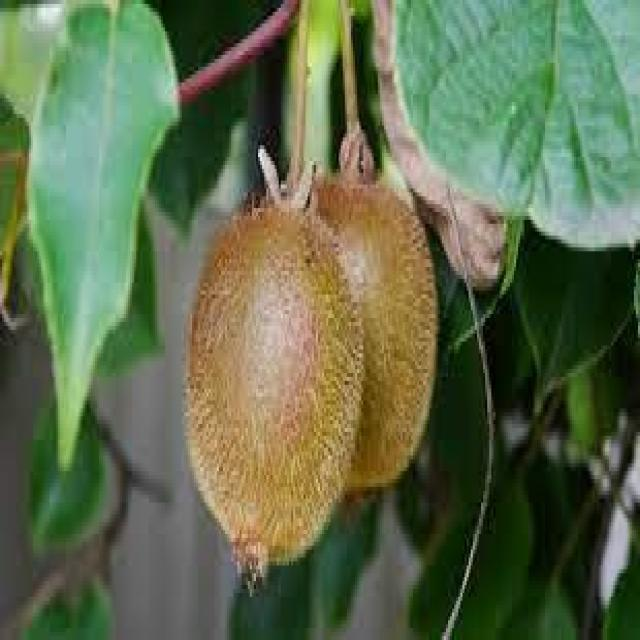kiwi: (181, 178, 379, 586), (311, 162, 445, 504)
